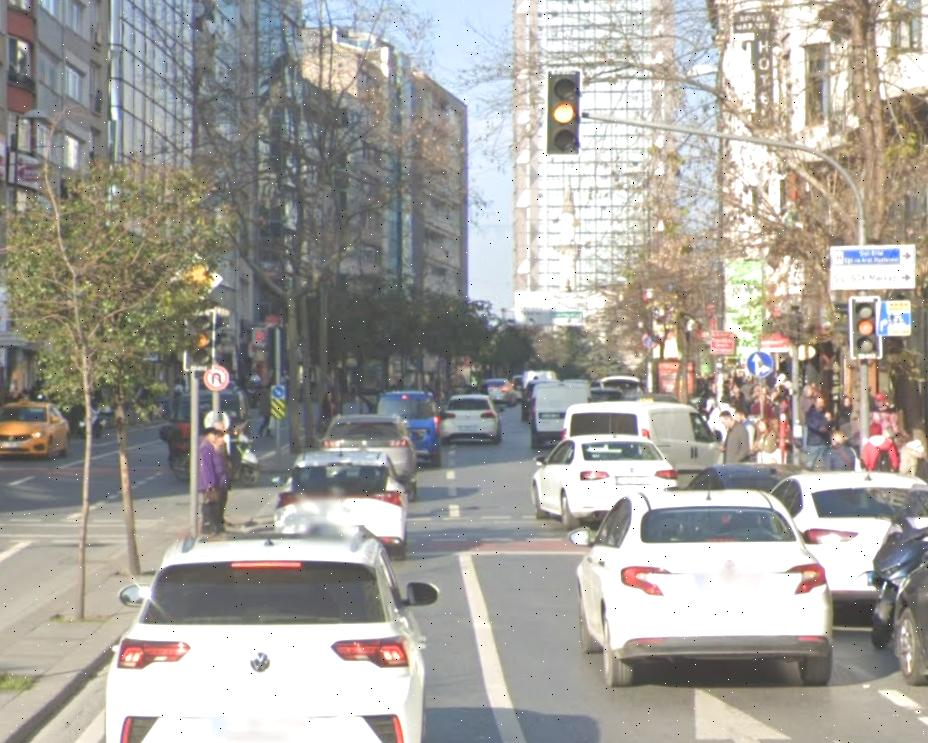yellowlight: (545, 66, 581, 160), (849, 296, 882, 358), (184, 307, 212, 372)
